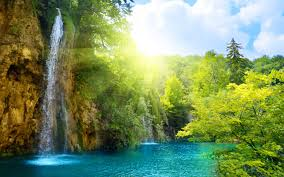forest: (93, 40, 284, 139)
lake: (8, 134, 243, 177)
sky: (116, 3, 283, 57)
waterfall: (26, 10, 82, 169)
